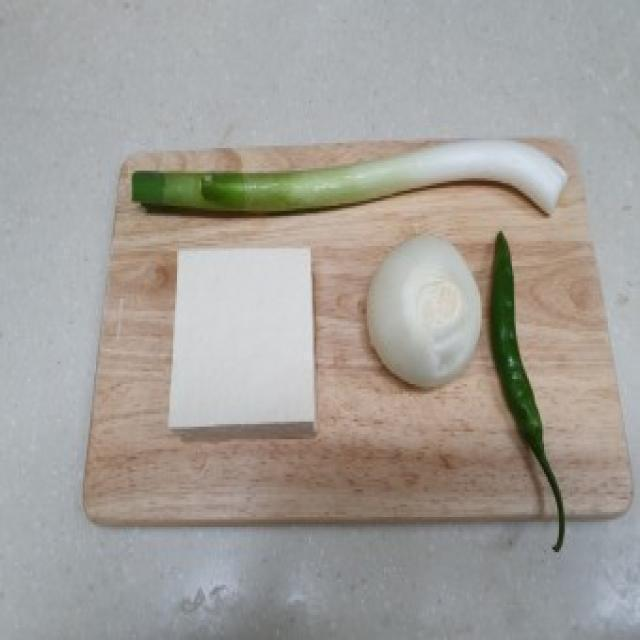Onion: (129, 142, 568, 217), (364, 237, 484, 387)
